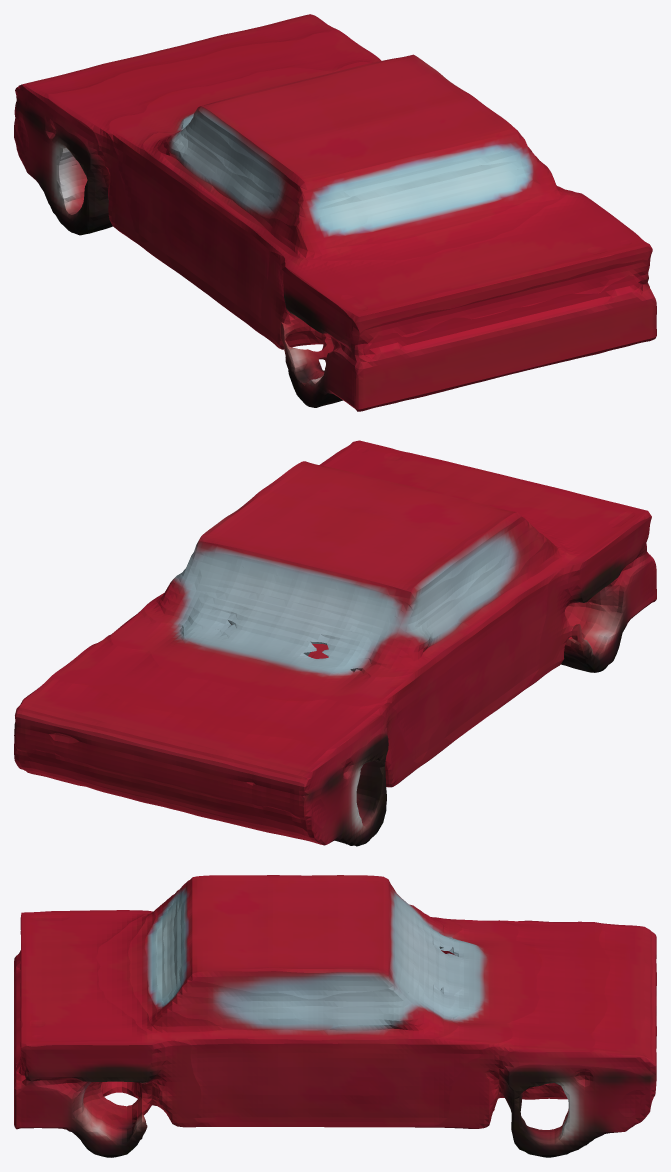
The model's file is text-to-3d-car.glb.
The picture shows the model from 3 angles, top to bottom: view 1: azimuth 30°, elevation 25°; view 2: azimuth 150°, elevation 25°; view 3: azimuth 270°, elevation 25°; orthographic projection. The views are drawn at different scales.
Parts seen in each view (by area): view 1: tmpehw_qtlh.ply; view 2: tmpehw_qtlh.ply; view 3: tmpehw_qtlh.ply.
Boxes of the visible parts, <box> form: tmpehw_qtlh.ply: <box>14,14,656,411</box>; tmpehw_qtlh.ply: <box>14,440,656,846</box>; tmpehw_qtlh.ply: <box>14,875,656,1157</box>.
Bounding box in the file's own units: 0.9932 × 0.5742 × 1.98.
